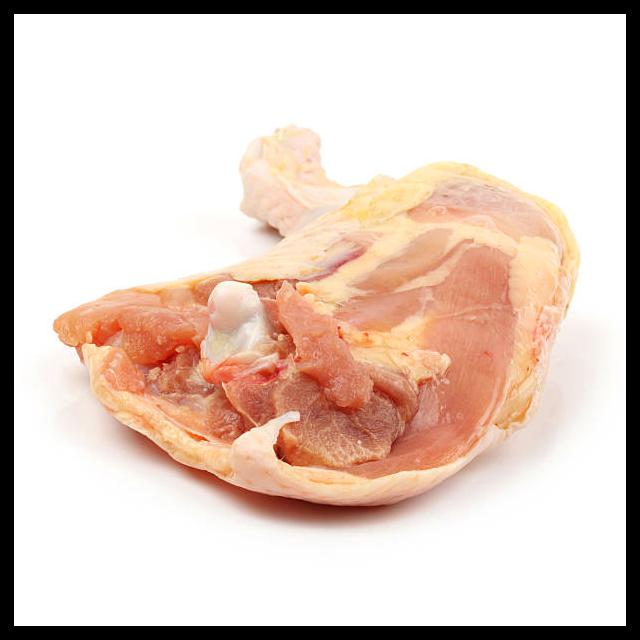chicken: (50, 122, 580, 506)
